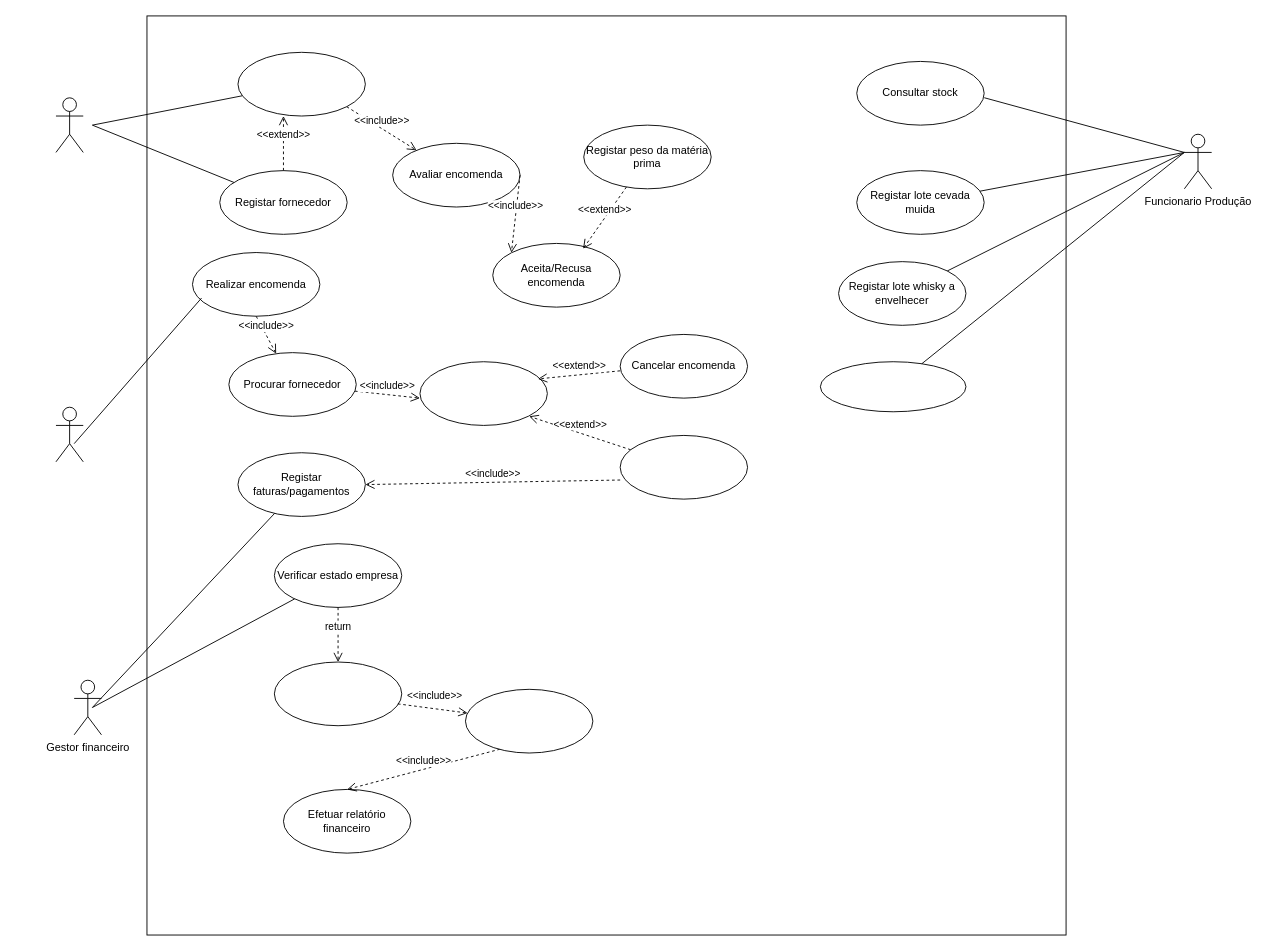
Some shapes in this 1267 by 951 pixel diagram are drawn without their labels. Each missing label, with the centre of its shape:
"Encomendar materia-prima" goes at (483,393).
"Gestor de encomenda" goes at (69,434).
"Pagamento encomenda" goes at (683,467).
"Receber encomenda" goes at (301,83).
"Rececionista" goes at (69,124).
"Registar lote whisky final" goes at (892,386).
"Verificar lotes de whisky final" goes at (337,693).
"Verificar pagamentos" goes at (529,720).
